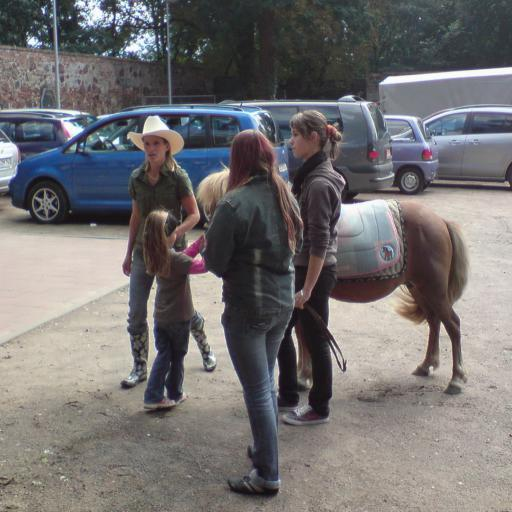horse: (194, 164, 470, 397)
